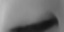LeftEyeFatigue: (6, 5, 59, 32)
